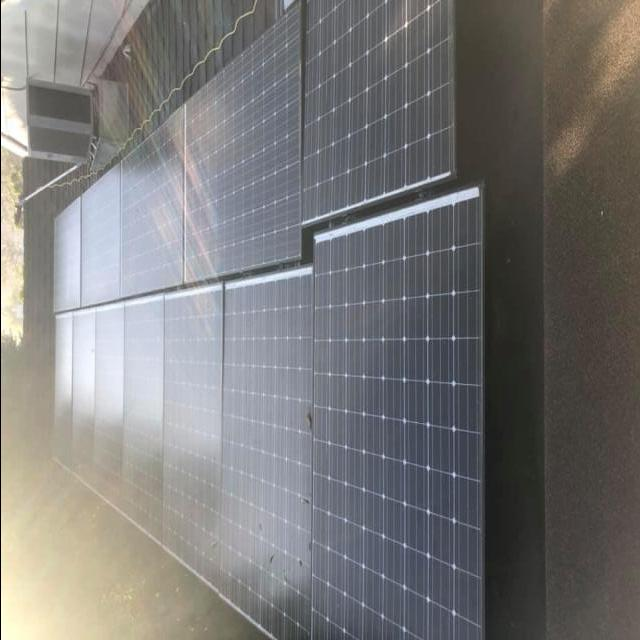soiled: (219, 267, 317, 640)
